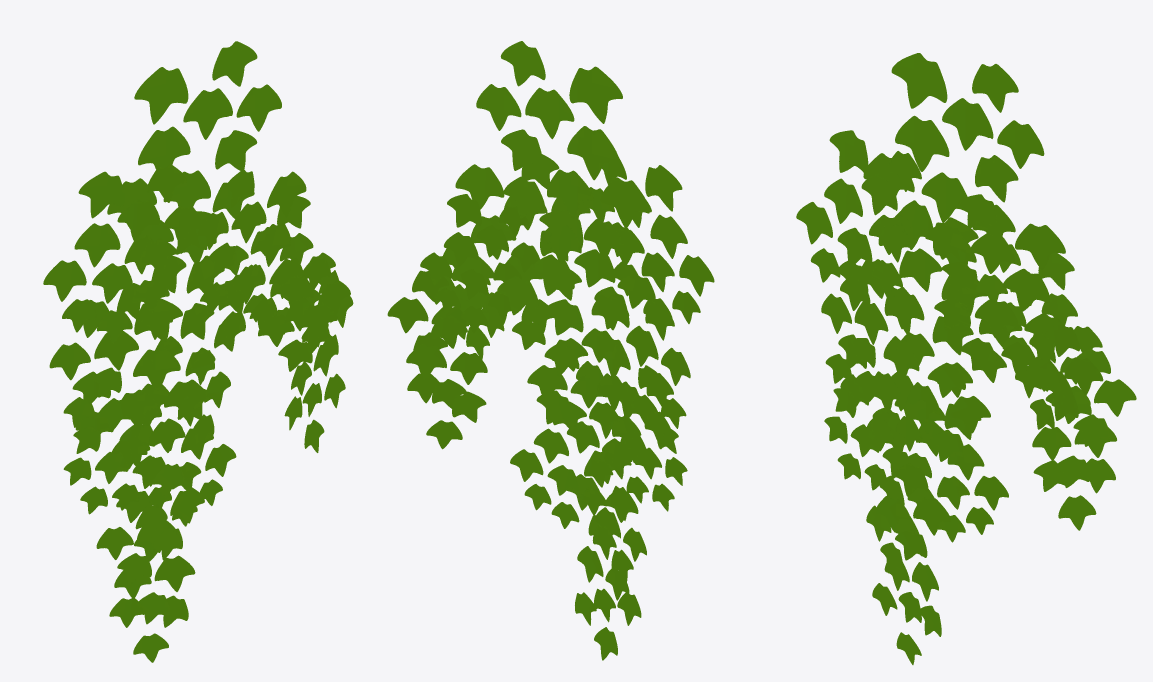
Rendered from med-trepadeira.gltf.
3 views of the same model, side by side, from view 1: azimuth 30°, elevation 25°; view 2: azimuth 150°, elevation 25°; view 3: azimuth 330°, elevation 25° (orthographic). The views are drawn at different scales.
Visible parts, largest first — view 1: Prop_Vine1; view 2: Prop_Vine1; view 3: Prop_Vine1.
Part boxes in pixels (x1=…): Prop_Vine1: x1=43, y1=41, x2=353, y2=662; Prop_Vine1: x1=387, y1=41, x2=714, y2=660; Prop_Vine1: x1=796, y1=53, x2=1136, y2=664.
Bounding box in the file's own units: 0.7678 × 1.3 × 0.1094.
1 material, 1 textured.
